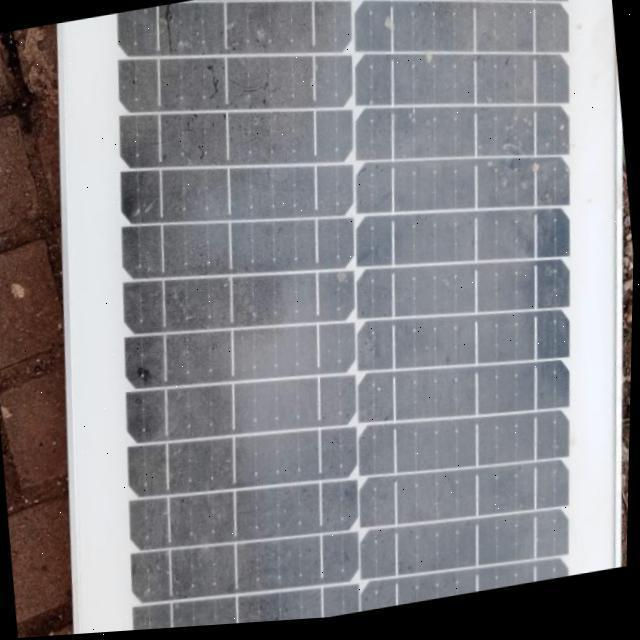Surface Contaminant: (109, 0, 592, 631)
